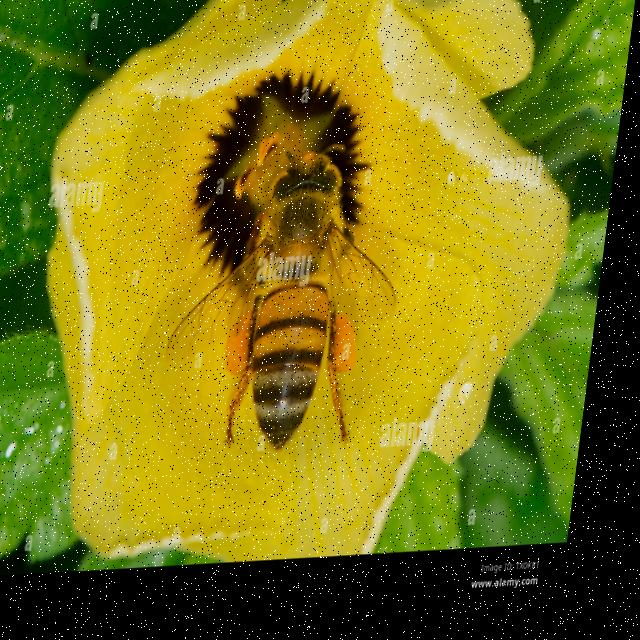Apis-mellifera-scutellata: (150, 133, 428, 497)
